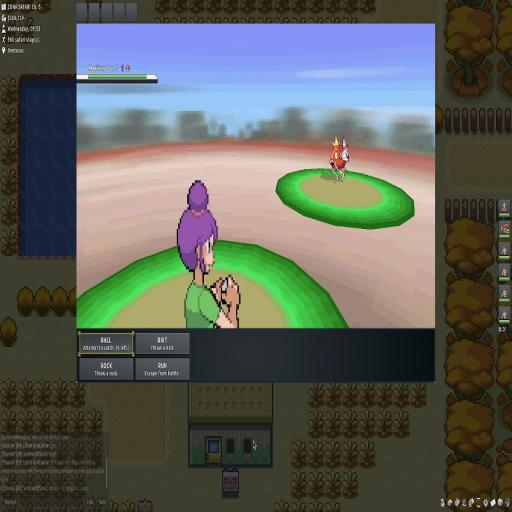FIGHTBAR: (77, 331, 191, 381)
MAGIKARP: (329, 136, 350, 182)
